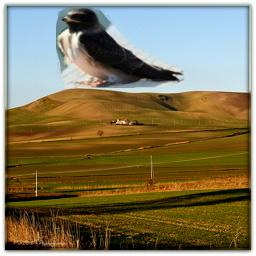Swallow: (56, 7, 186, 88)
